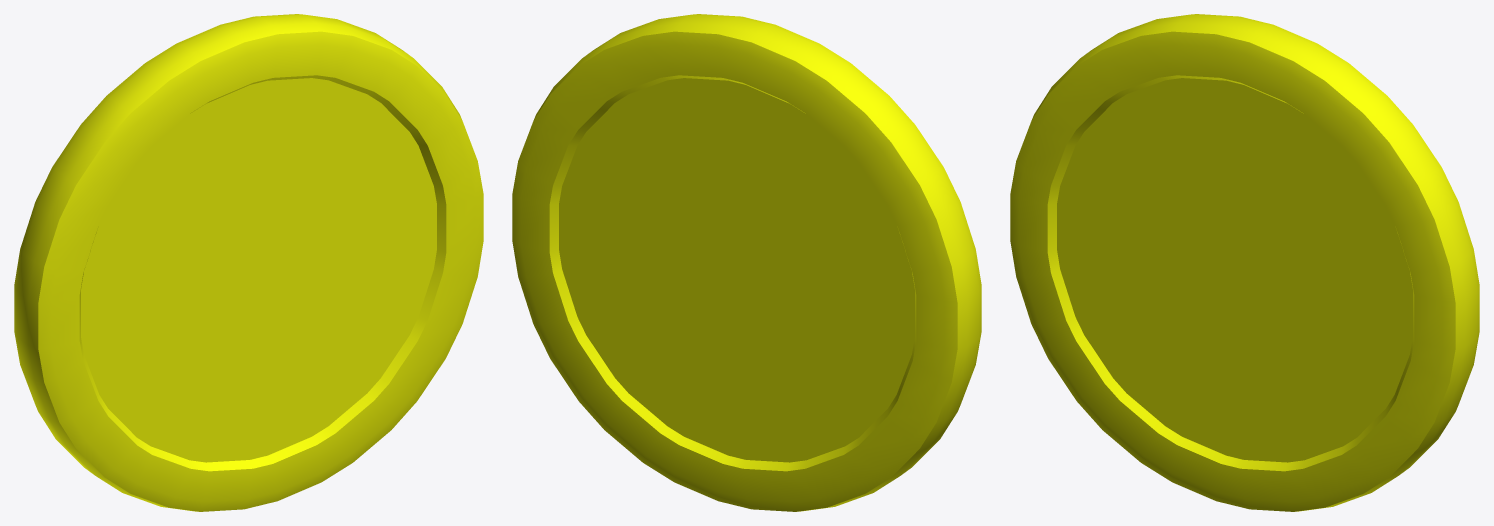
File: Coin_v1.fbx
The picture shows the model from 3 angles, left to right: view 1: azimuth 30°, elevation 25°; view 2: azimuth 150°, elevation 25°; view 3: azimuth 330°, elevation 25°; orthographic projection.
Visible parts, largest first — view 1: Coin; view 2: Coin; view 3: Coin.
Part boxes in pixels (x1,y1,x2,y2): Coin: (14, 14, 483, 511); Coin: (512, 14, 981, 511); Coin: (1010, 14, 1479, 511).
Bounding box in the file's own units: 211 × 212 × 22.84.
